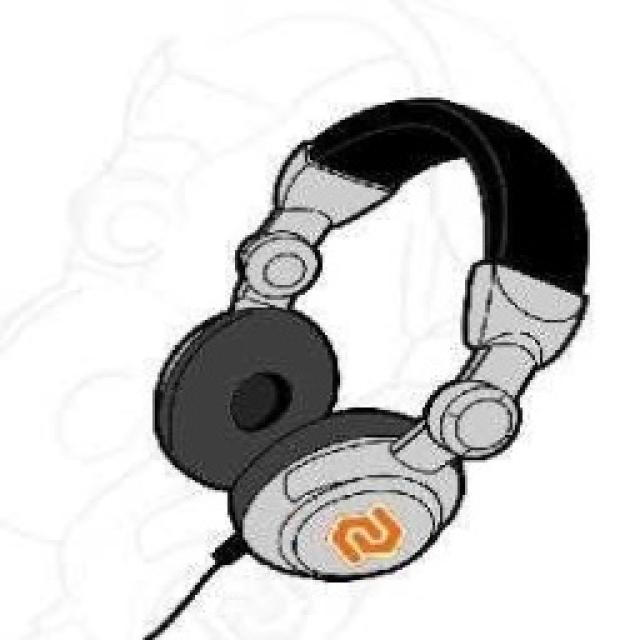kulaklik: (141, 89, 598, 601)
